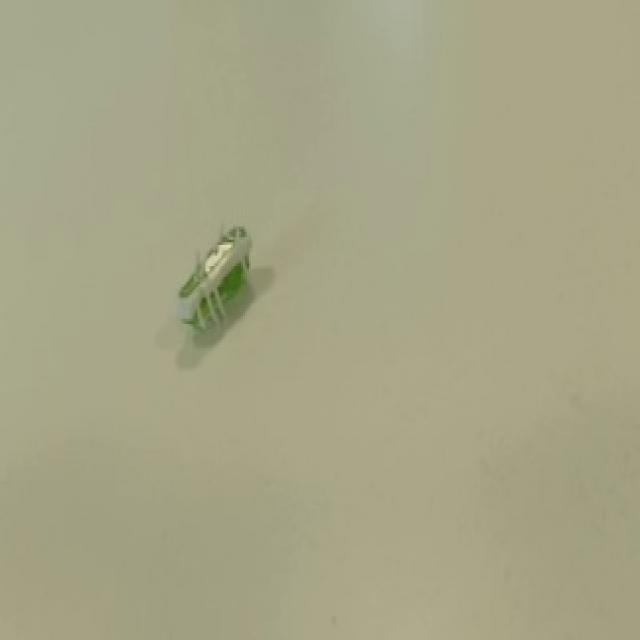4_NanoBug_Blanco: (145, 198, 293, 360)
